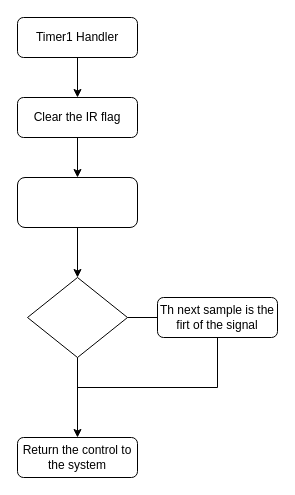
Image size: 295x495. Some labels were removed from this diagram. Each missing label, with the box of its shape:
Change the Dac value to the value of the next sample: (16, 176, 138, 228)
Is the last sample: (26, 276, 128, 358)
